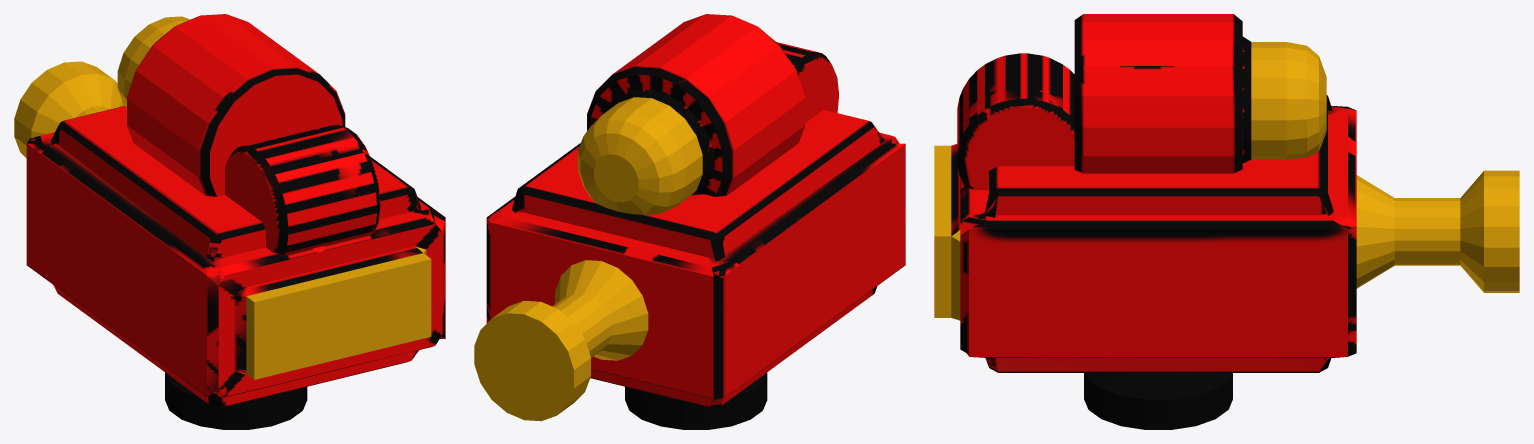
The model's file is turret.fbx.
The picture shows the model from 3 angles, left to right: view 1: azimuth 30°, elevation 25°; view 2: azimuth 150°, elevation 25°; view 3: azimuth 270°, elevation 25°; orthographic projection. The views are drawn at different scales.
Visible parts, largest first — view 1: Cube; view 2: Cube; view 3: Cube.
Boxes of the visible parts, x1,y1,x2,y2 form: Cube: [14, 14, 445, 429]; Cube: [474, 14, 905, 429]; Cube: [934, 14, 1519, 429].
Bounding box in the file's own units: 40.39 × 58.02 × 81.72.
Materials: 2 (1 with a texture image).
